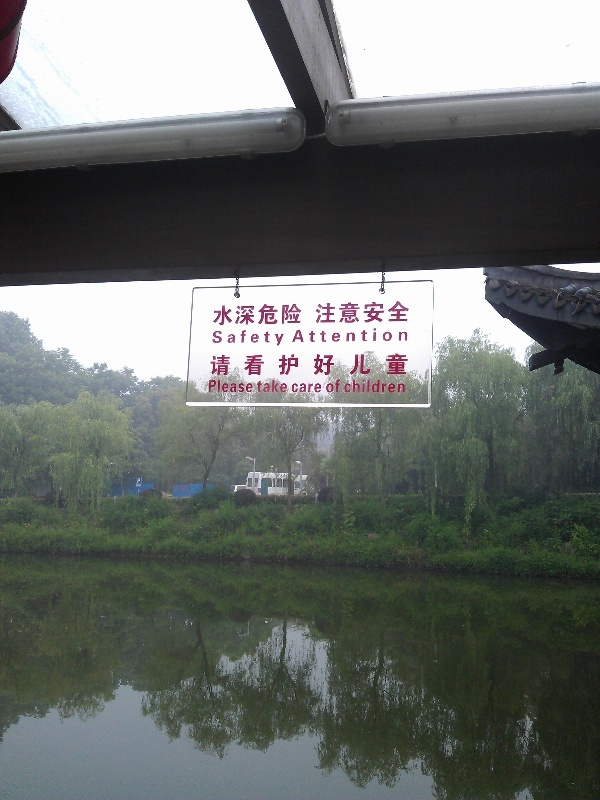text: (225, 351, 240, 376), (241, 351, 256, 376), (257, 351, 272, 376), (273, 351, 288, 376), (289, 351, 304, 376), (305, 351, 320, 376), (321, 351, 336, 376), (337, 351, 352, 376), (353, 351, 368, 376), (369, 351, 384, 376), (385, 351, 400, 376), (210, 351, 224, 376), (225, 303, 240, 326), (241, 303, 256, 326), (257, 303, 272, 326), (273, 303, 288, 326), (321, 301, 336, 324), (337, 301, 352, 324), (353, 301, 368, 324), (369, 301, 384, 324), (385, 301, 400, 324), (289, 303, 303, 326), (225, 329, 240, 348), (241, 329, 256, 348), (257, 329, 272, 348), (273, 329, 287, 348), (213, 303, 224, 326), (305, 328, 320, 344), (321, 328, 336, 344), (337, 328, 352, 344), (353, 328, 368, 344), (369, 328, 384, 344), (385, 328, 400, 344), (209, 379, 224, 394), (225, 379, 240, 394), (353, 379, 368, 394), (369, 379, 384, 394), (385, 379, 400, 394), (273, 379, 288, 393), (213, 329, 224, 348), (291, 328, 304, 344), (401, 351, 409, 376), (258, 379, 272, 393), (241, 379, 254, 394), (401, 301, 409, 324), (305, 382, 320, 394), (401, 328, 411, 344), (292, 382, 304, 394), (327, 379, 336, 394), (344, 379, 352, 394), (316, 301, 320, 324), (401, 379, 407, 394), (337, 379, 341, 394), (177, 487, 187, 492), (138, 479, 144, 484), (321, 382, 323, 394), (175, 487, 176, 492)
